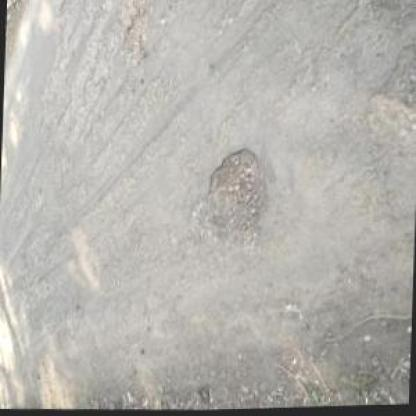pothole: (202, 143, 269, 245), (121, 11, 148, 54)
